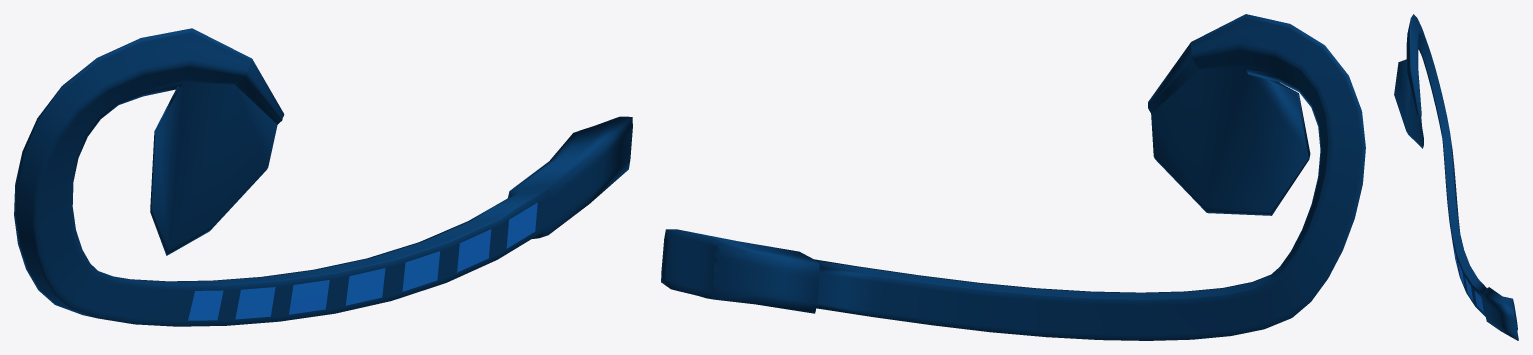
The model's file is mikrofon2.fbx.
3 views of the same model, side by side, from view 1: azimuth 30°, elevation 25°; view 2: azimuth 150°, elevation 25°; view 3: azimuth 270°, elevation 25° (orthographic). The views are drawn at different scales.
Parts seen in each view (by area): view 1: BezierCurve.001; view 2: BezierCurve.001; view 3: BezierCurve.001.
Part boxes in pixels (box(x1,y1,x2,y2)): BezierCurve.001: box(14, 28, 632, 326); BezierCurve.001: box(661, 14, 1365, 340); BezierCurve.001: box(1394, 14, 1518, 340).
Bounding box in the file's own units: 47.66 × 24.35 × 14.74.
